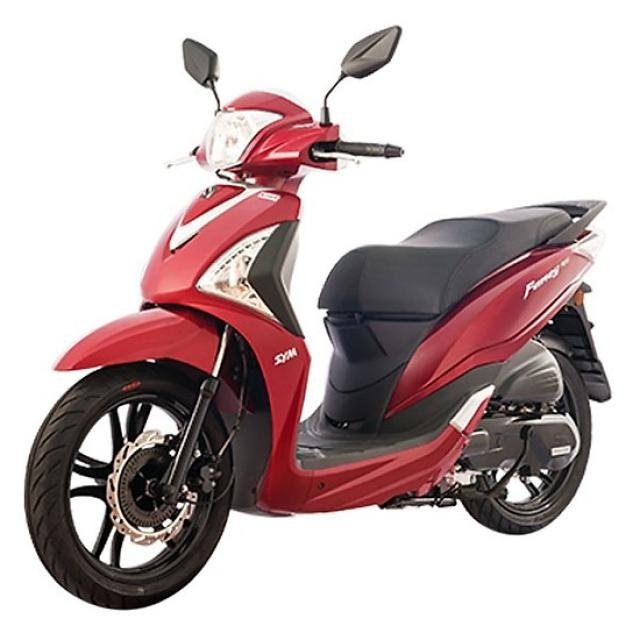Motorcycle: (24, 12, 619, 617)
